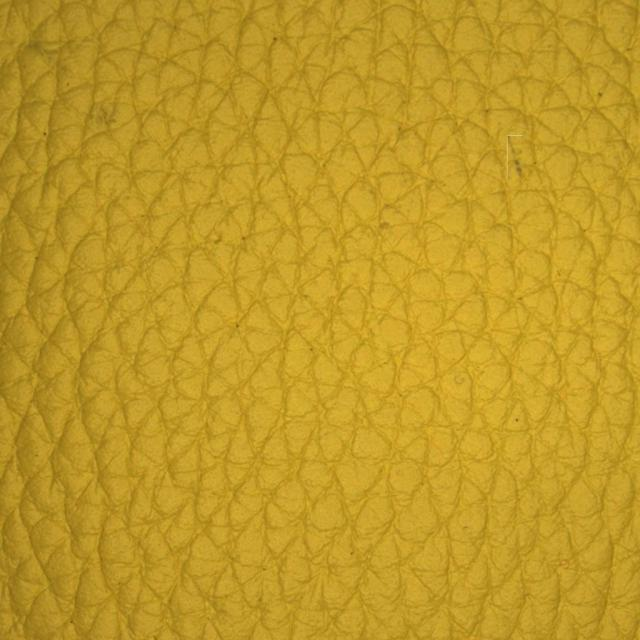Scratch: (444, 86, 585, 260)
